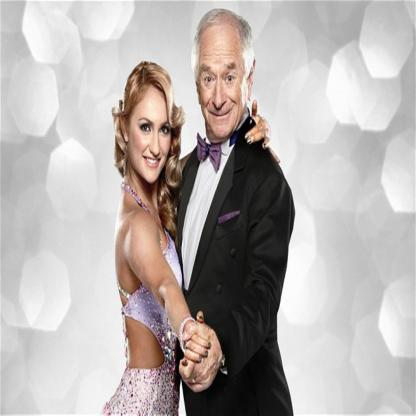face: (197, 31, 247, 141), (134, 92, 172, 188)
